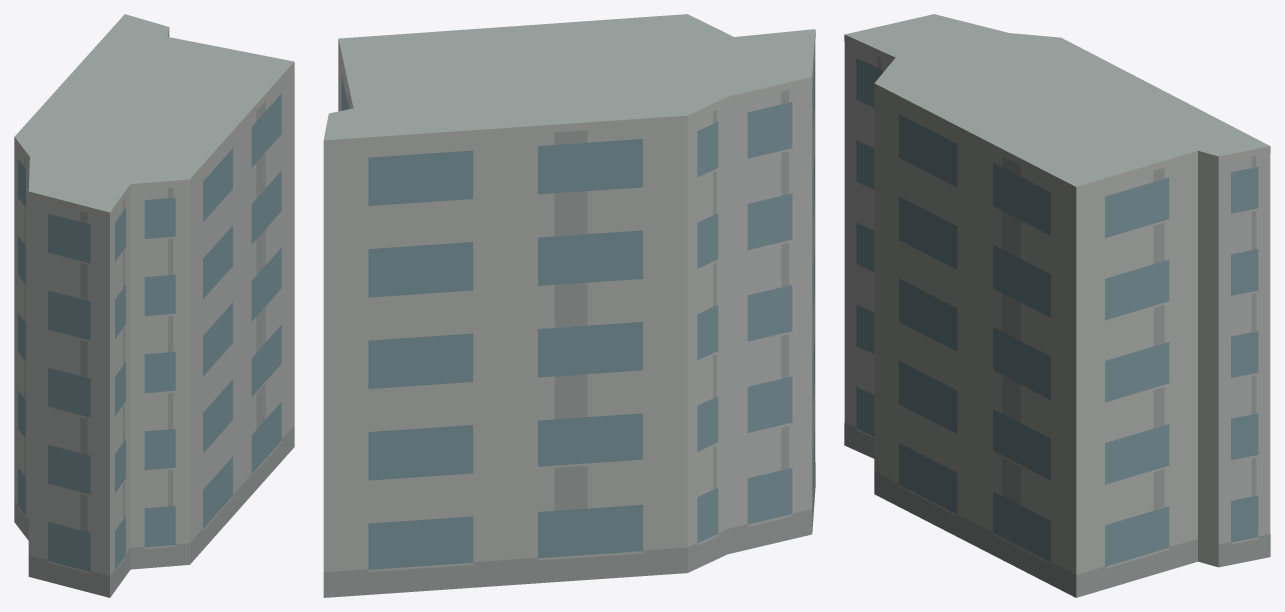
The model's file is survey-upis-32966982.glb.
3 views of the same model, side by side, from view 1: azimuth 30°, elevation 25°; view 2: azimuth 150°, elevation 25°; view 3: azimuth 270°, elevation 25° (orthographic). The views are drawn at different scales.
Parts seen in each view (by area): view 1: survey-upis-32966982.tmp; view 2: survey-upis-32966982.tmp; view 3: survey-upis-32966982.tmp.
Boxes of the visible parts, box(x1,y1,x2,y2) form: survey-upis-32966982.tmp: box(14, 14, 294, 597); survey-upis-32966982.tmp: box(323, 14, 815, 597); survey-upis-32966982.tmp: box(844, 14, 1270, 597).
Bounding box in the file's own units: 12.74 × 14.1 × 13.26.
